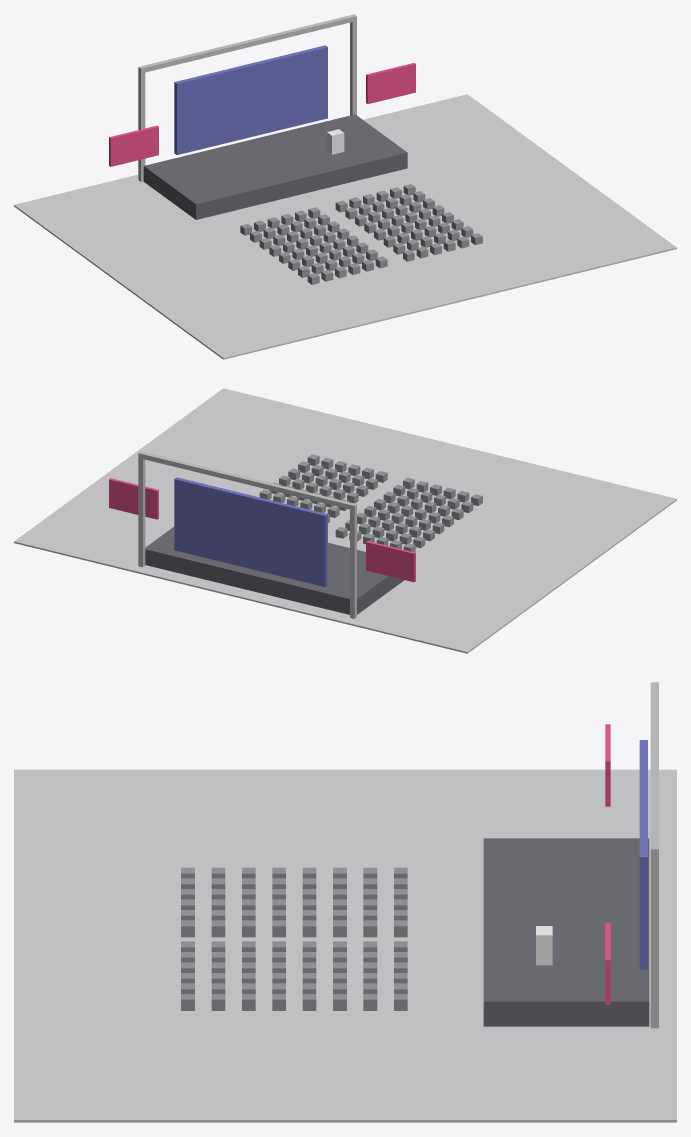
The model's file is escenario-demo.glb.
The picture shows the model from 3 angles, top to bottom: view 1: azimuth 30°, elevation 25°; view 2: azimuth 150°, elevation 25°; view 3: azimuth 270°, elevation 25°; orthographic projection. The views are drawn at different scales.
Visible parts, largest first — view 1: geometry_0, geometry_1, geometry_2, geometry_8, geometry_3, geometry_4, geometry_7, geometry_6; view 2: geometry_0, geometry_2, geometry_1, geometry_8, geometry_3, geometry_4, geometry_7, geometry_6; view 3: geometry_0, geometry_1, geometry_2, geometry_7, geometry_8, geometry_5.
Part boxes in pixels (x1,y1,x2,y2): geometry_0: [14, 94, 676, 359]; geometry_1: [143, 114, 407, 219]; geometry_2: [174, 45, 327, 154]; geometry_8: [138, 14, 356, 72]; geometry_3: [109, 125, 158, 166]; geometry_4: [366, 63, 415, 103]; geometry_7: [350, 18, 356, 115]; geometry_6: [138, 69, 145, 181]; geometry_0: [14, 388, 676, 653]; geometry_2: [174, 477, 327, 587]; geometry_1: [145, 527, 404, 614]; geometry_8: [138, 451, 356, 510]; geometry_3: [366, 541, 415, 582]; geometry_4: [109, 478, 158, 519]; geometry_7: [138, 455, 145, 567]; geometry_6: [350, 507, 356, 618]; geometry_0: [14, 769, 676, 1122]; geometry_1: [483, 838, 649, 1026]; geometry_2: [639, 740, 647, 969]; geometry_7: [650, 853, 658, 1028]; geometry_8: [650, 682, 658, 856]; geometry_5: [536, 926, 552, 965].
Bounding box in the file's own units: 30 × 7.25 × 24.
